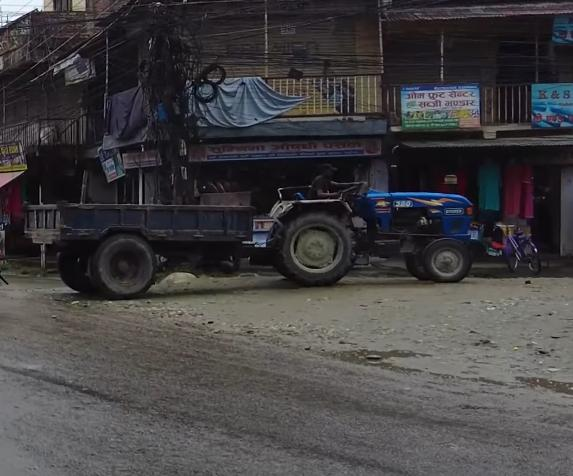tractor: (261, 167, 482, 287)
